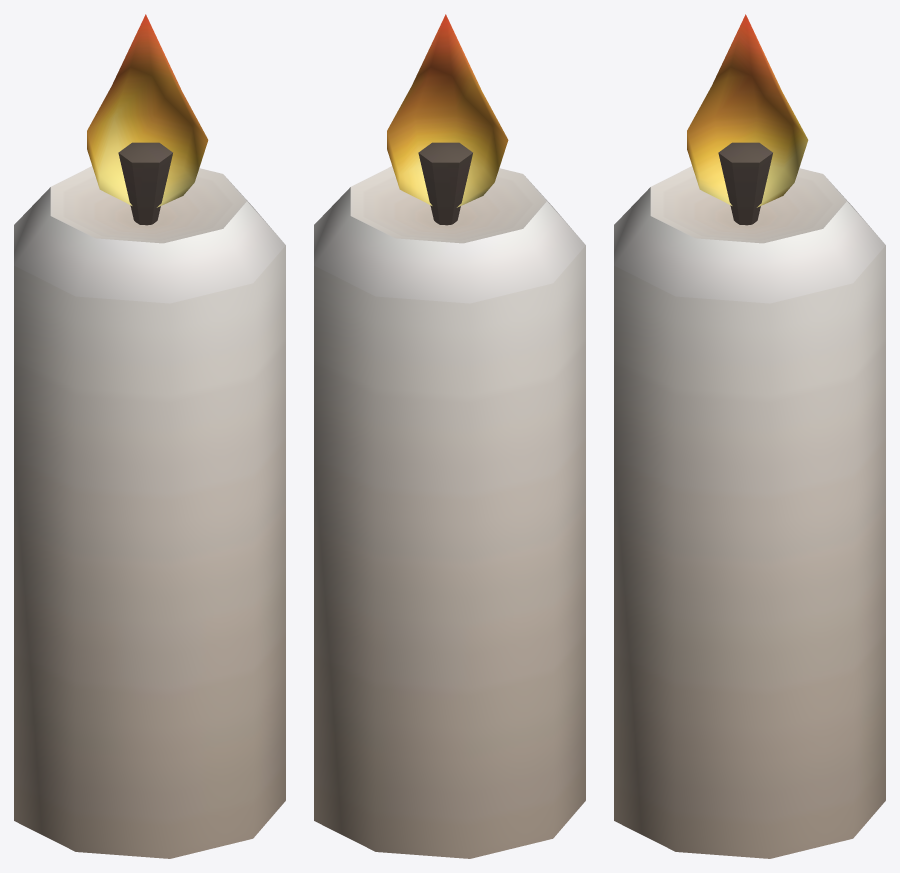
File: candle_lit_gltf.glb
3 renders of one model, left to right at view 1: azimuth 30°, elevation 25°; view 2: azimuth 150°, elevation 25°; view 3: azimuth 270°, elevation 25°, orthographic.
Visible parts, largest first — view 1: candle_lit; view 2: candle_lit; view 3: candle_lit.
Boxes of the visible parts, <box> form: candle_lit: <box>14,14,285,858</box>; candle_lit: <box>314,14,585,858</box>; candle_lit: <box>614,14,885,858</box>.
Size of the model in its own units: 0.3344 by 1.05 by 0.3293.
Materials: 1 (1 with a texture image).
